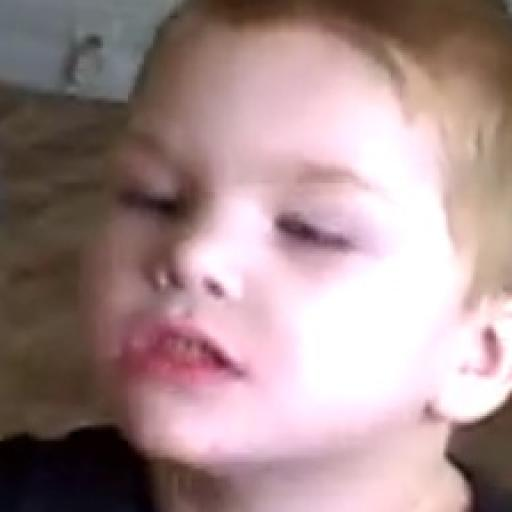Autism: (84, 34, 512, 430)
